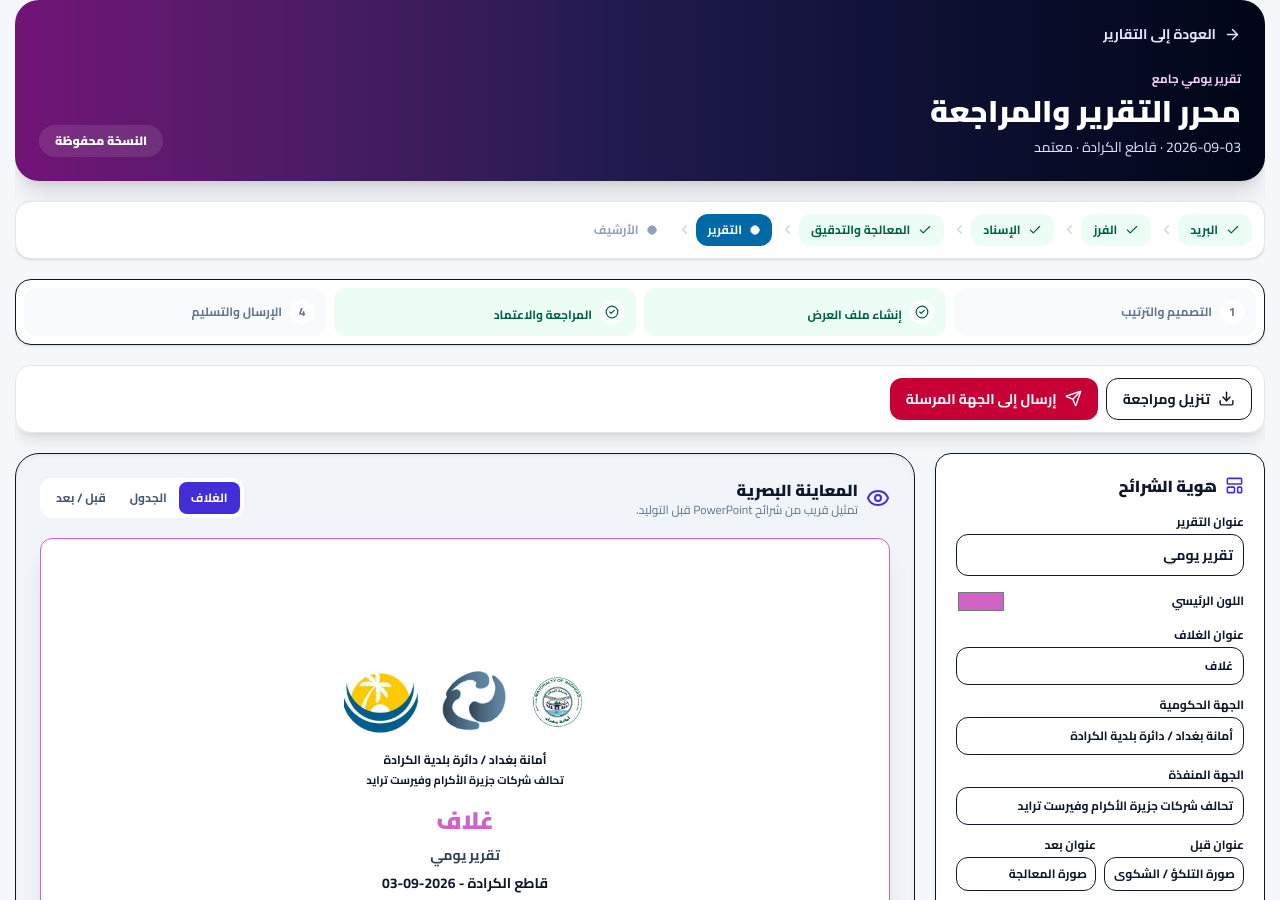
Test: محرر التقرير — ReportEditorPage › يرسل التقرير المعتمد إلى المستلمين مع مرفق PPTX
This screenshot has width=1280, height=900.
Click the button "إرسال إلى الجهة المرسلة". click: [994, 398]
box: [890,378,1098,420]
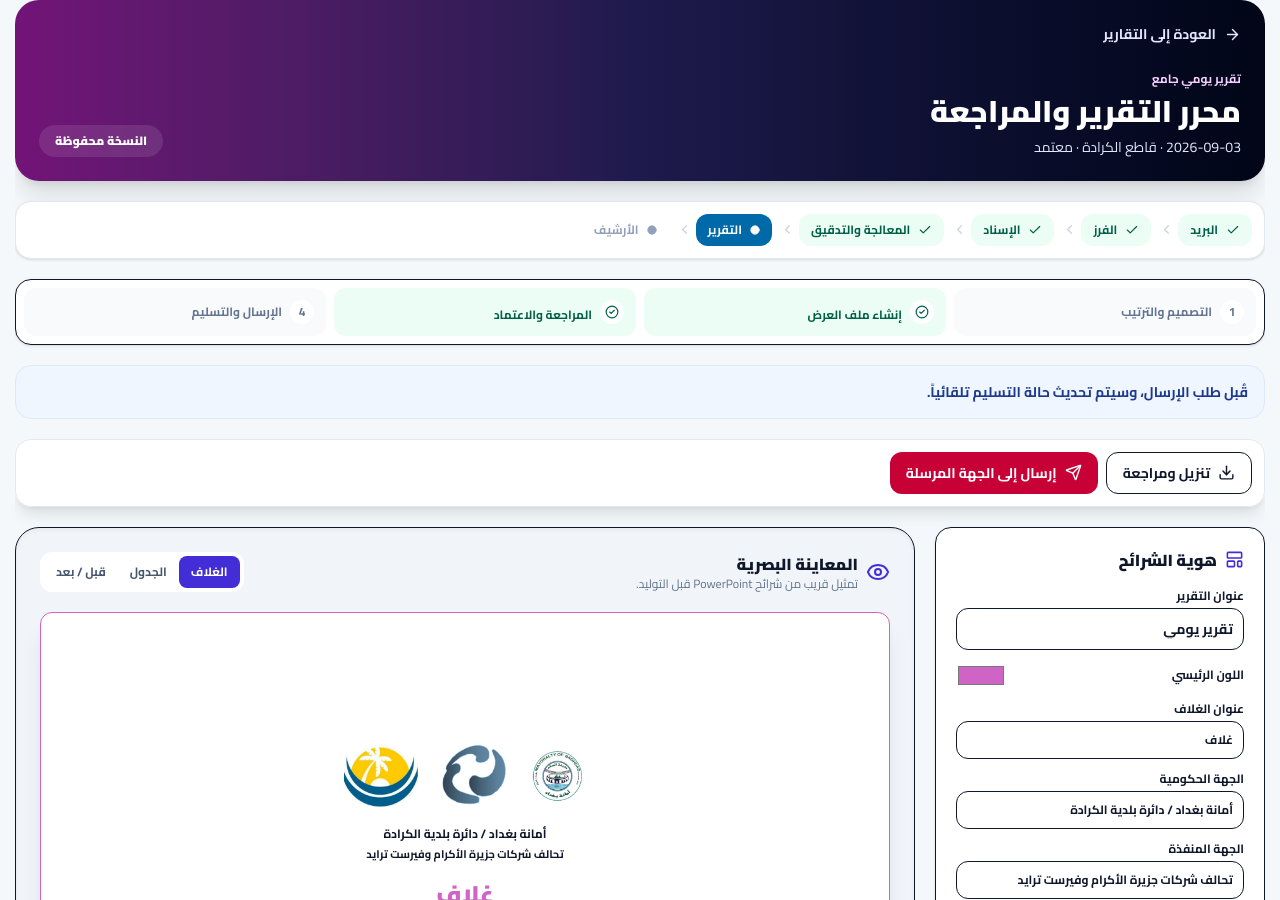
expect the text "قُبل طلب الإرسال، وسيتم تحديث حالة التسليم تلقائياً." is shown: met, box [15,364,1265,418]
